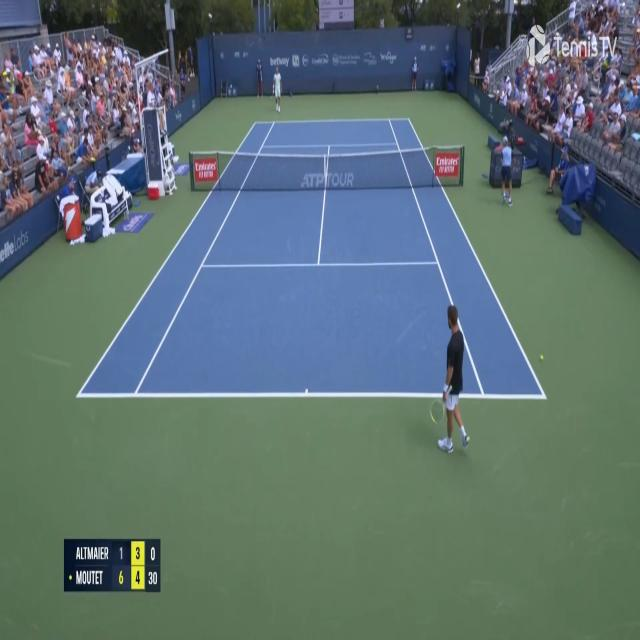tennis-player: (427, 294, 473, 462), (272, 65, 283, 113)
